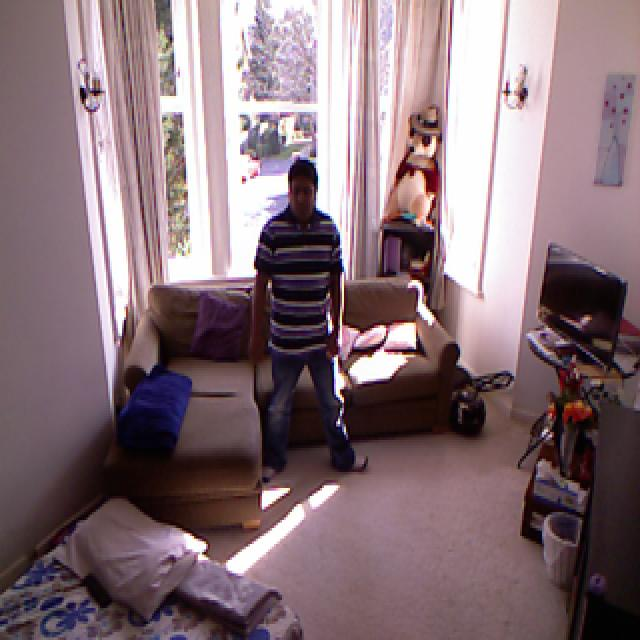standing: (246, 158, 374, 489)
